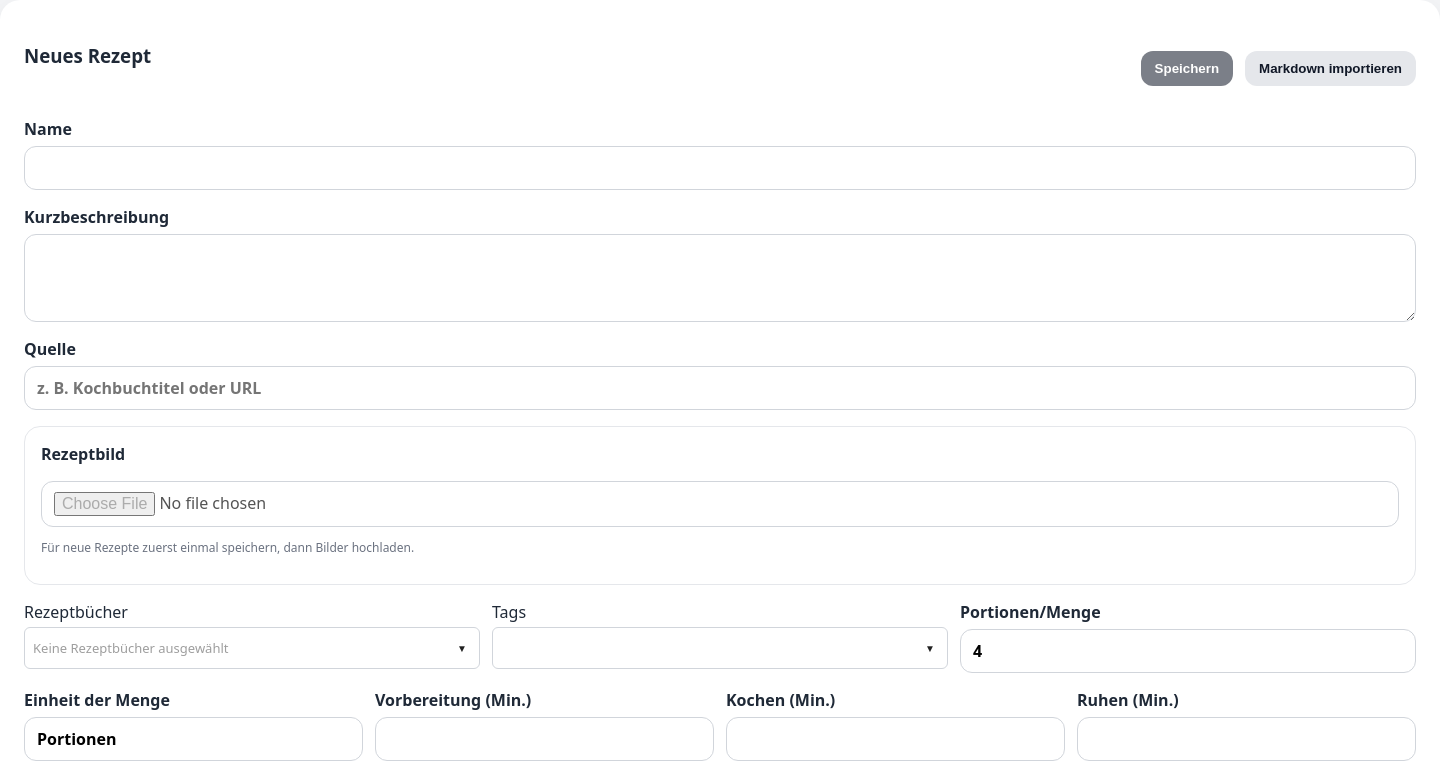
Test: RecipeEditor › requires at least one selected group in multi-select mode
In the field labelled "Name": coordinates (720, 168) x1=24 y1=146 x2=1416 y2=190, type "Nudeln"
(page scrolled)
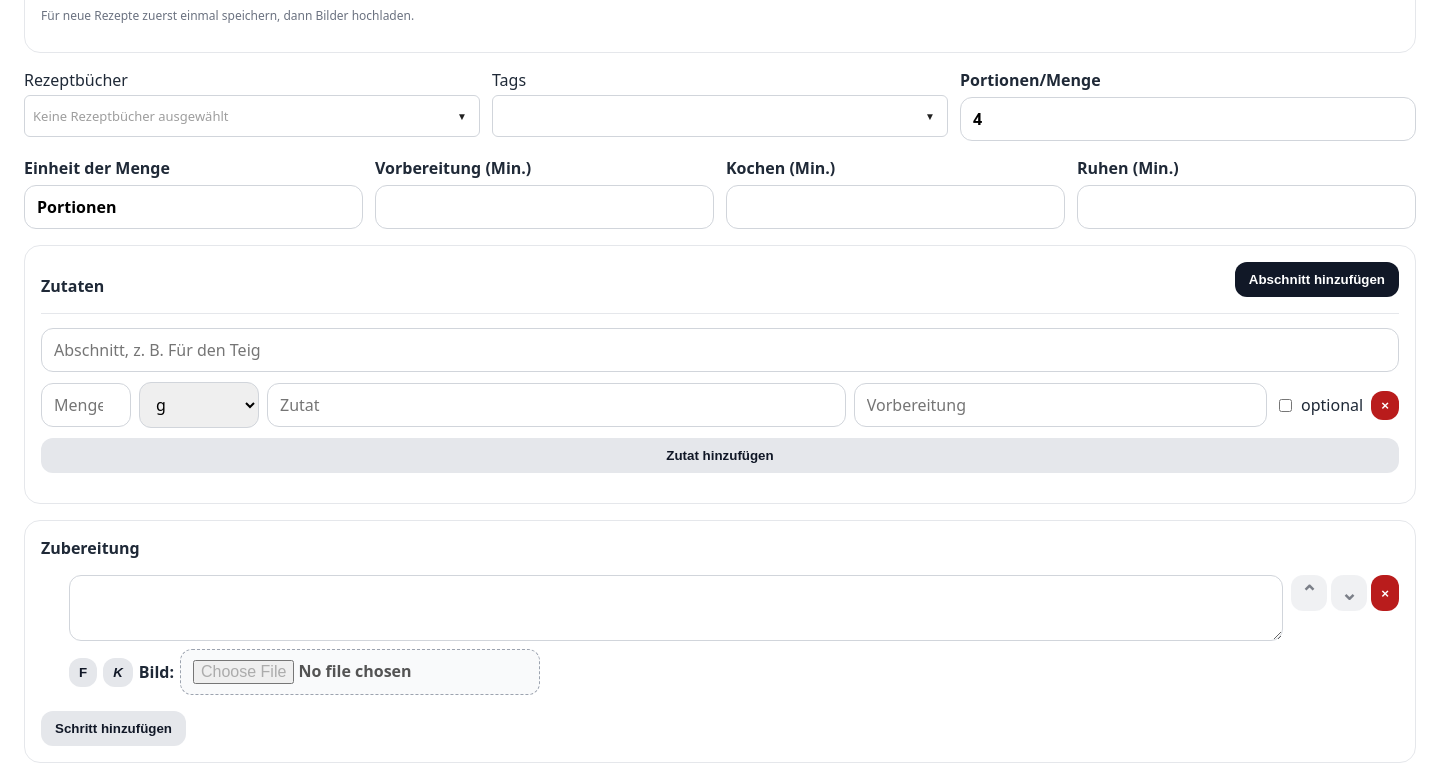
In the field labelled "Zutat": coordinates (556, 405) x1=267 y1=383 x2=846 y2=427, type "Pasta"
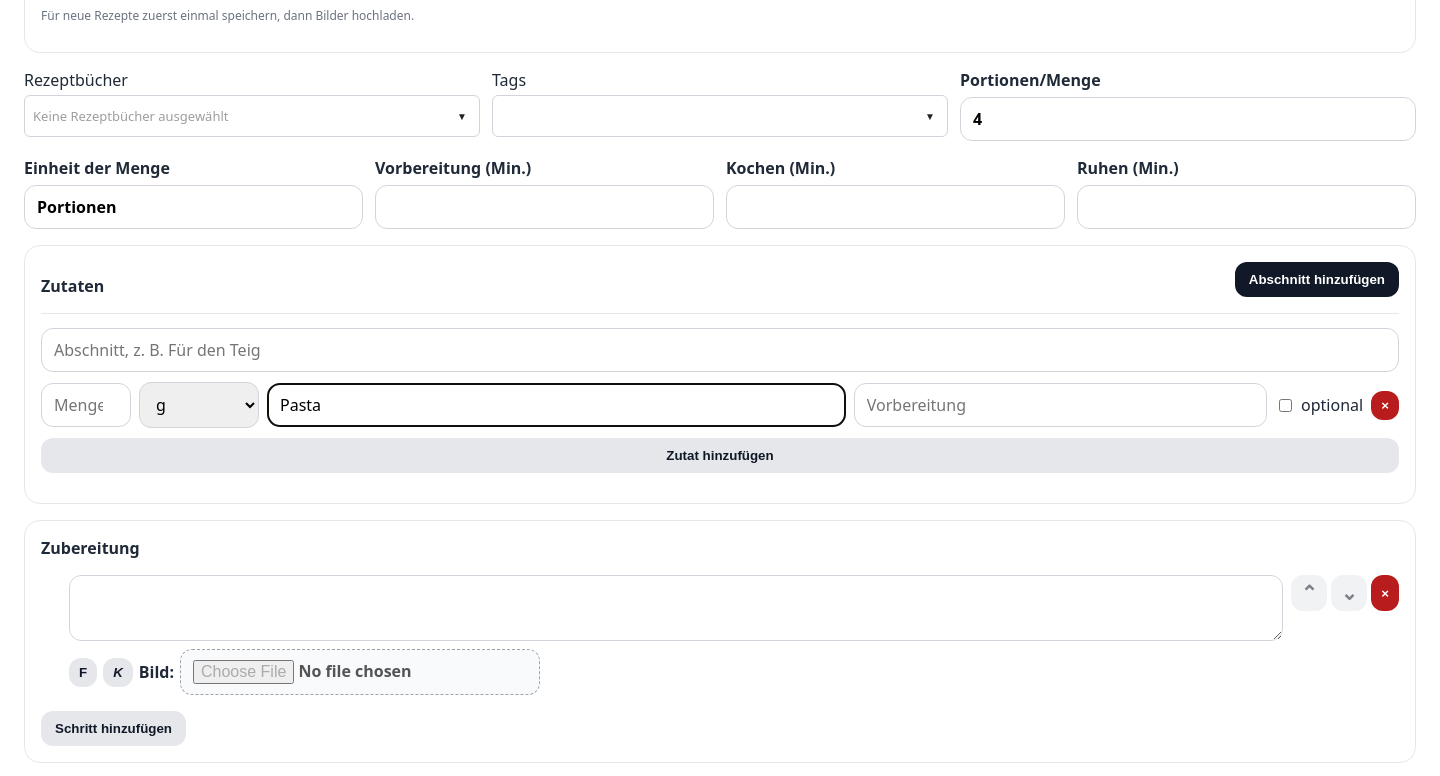
In the text box named "Zubereitungsschritt 1": coordinates (676, 608) x1=69 y1=575 x2=1283 y2=641, type "Kochen."
(page scrolled)
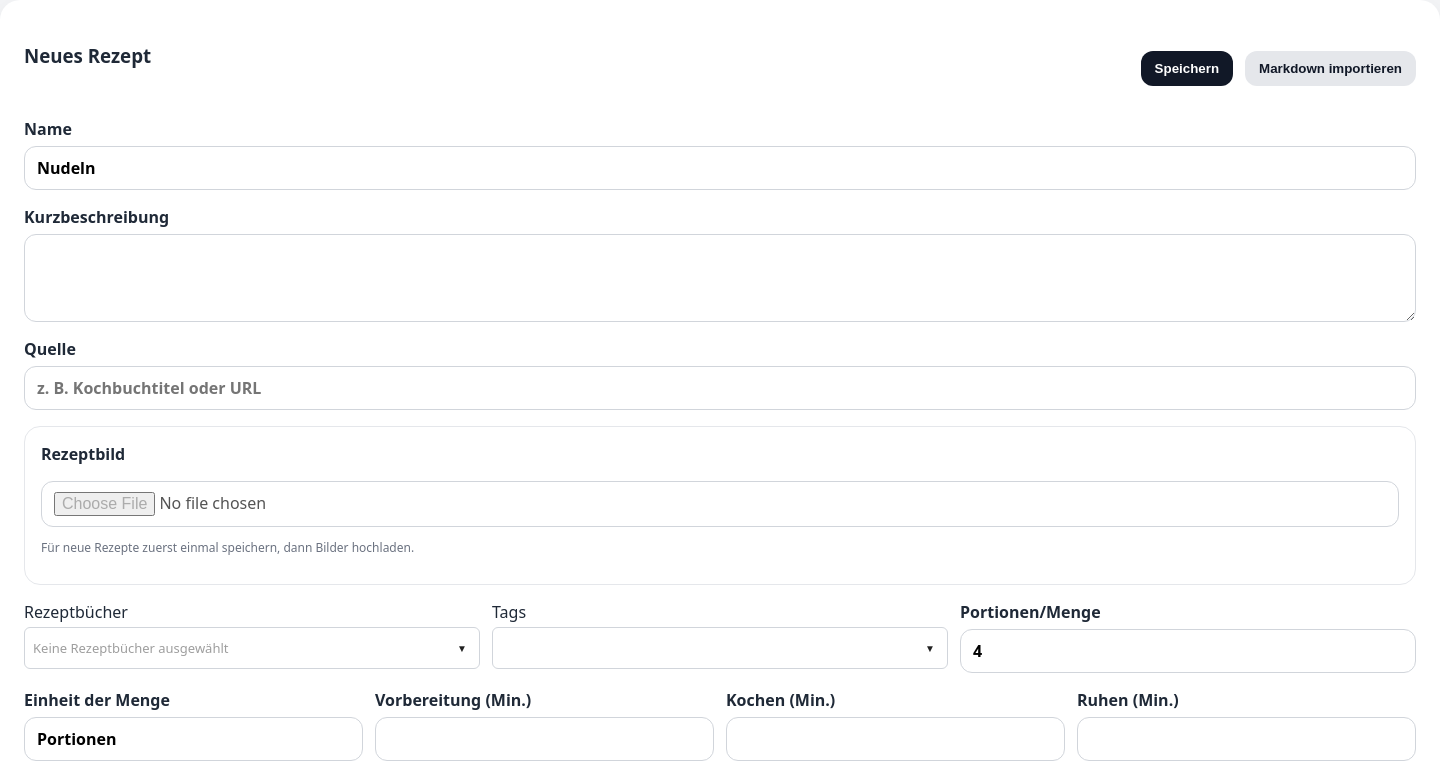
Click the button "Speichern": coordinates (1187, 69) x1=1141 y1=51 x2=1233 y2=86
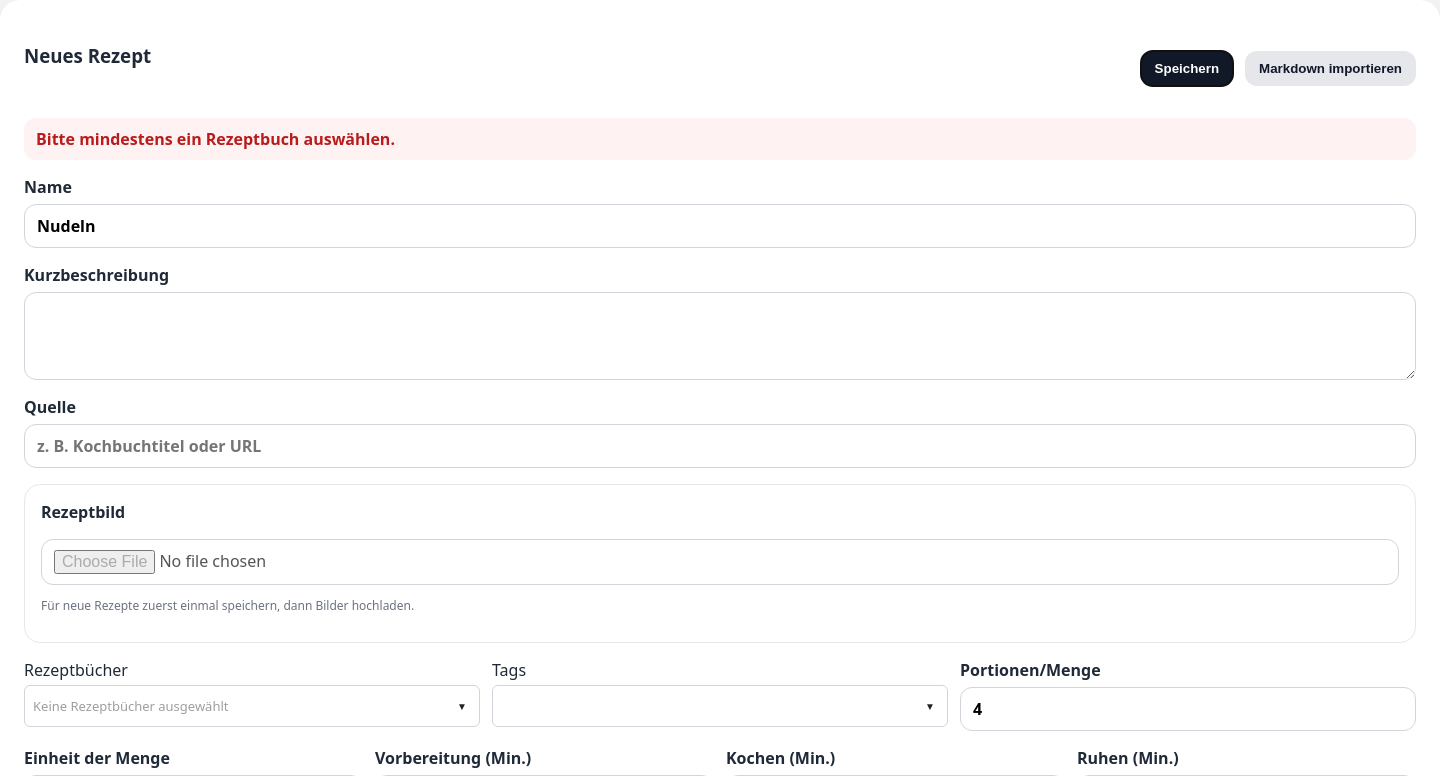
Expected: the text "Bitte mindestens ein Rezeptbuch auswählen." is shown, x1=24 y1=118 x2=1416 y2=160
